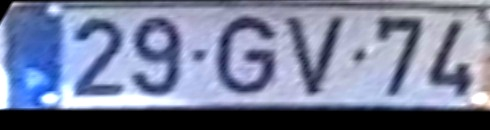2: (68, 15, 125, 101)
4: (424, 17, 479, 103)
7: (373, 15, 431, 101)
9: (129, 15, 183, 101)
G: (215, 13, 281, 100)
V: (282, 13, 353, 101)
